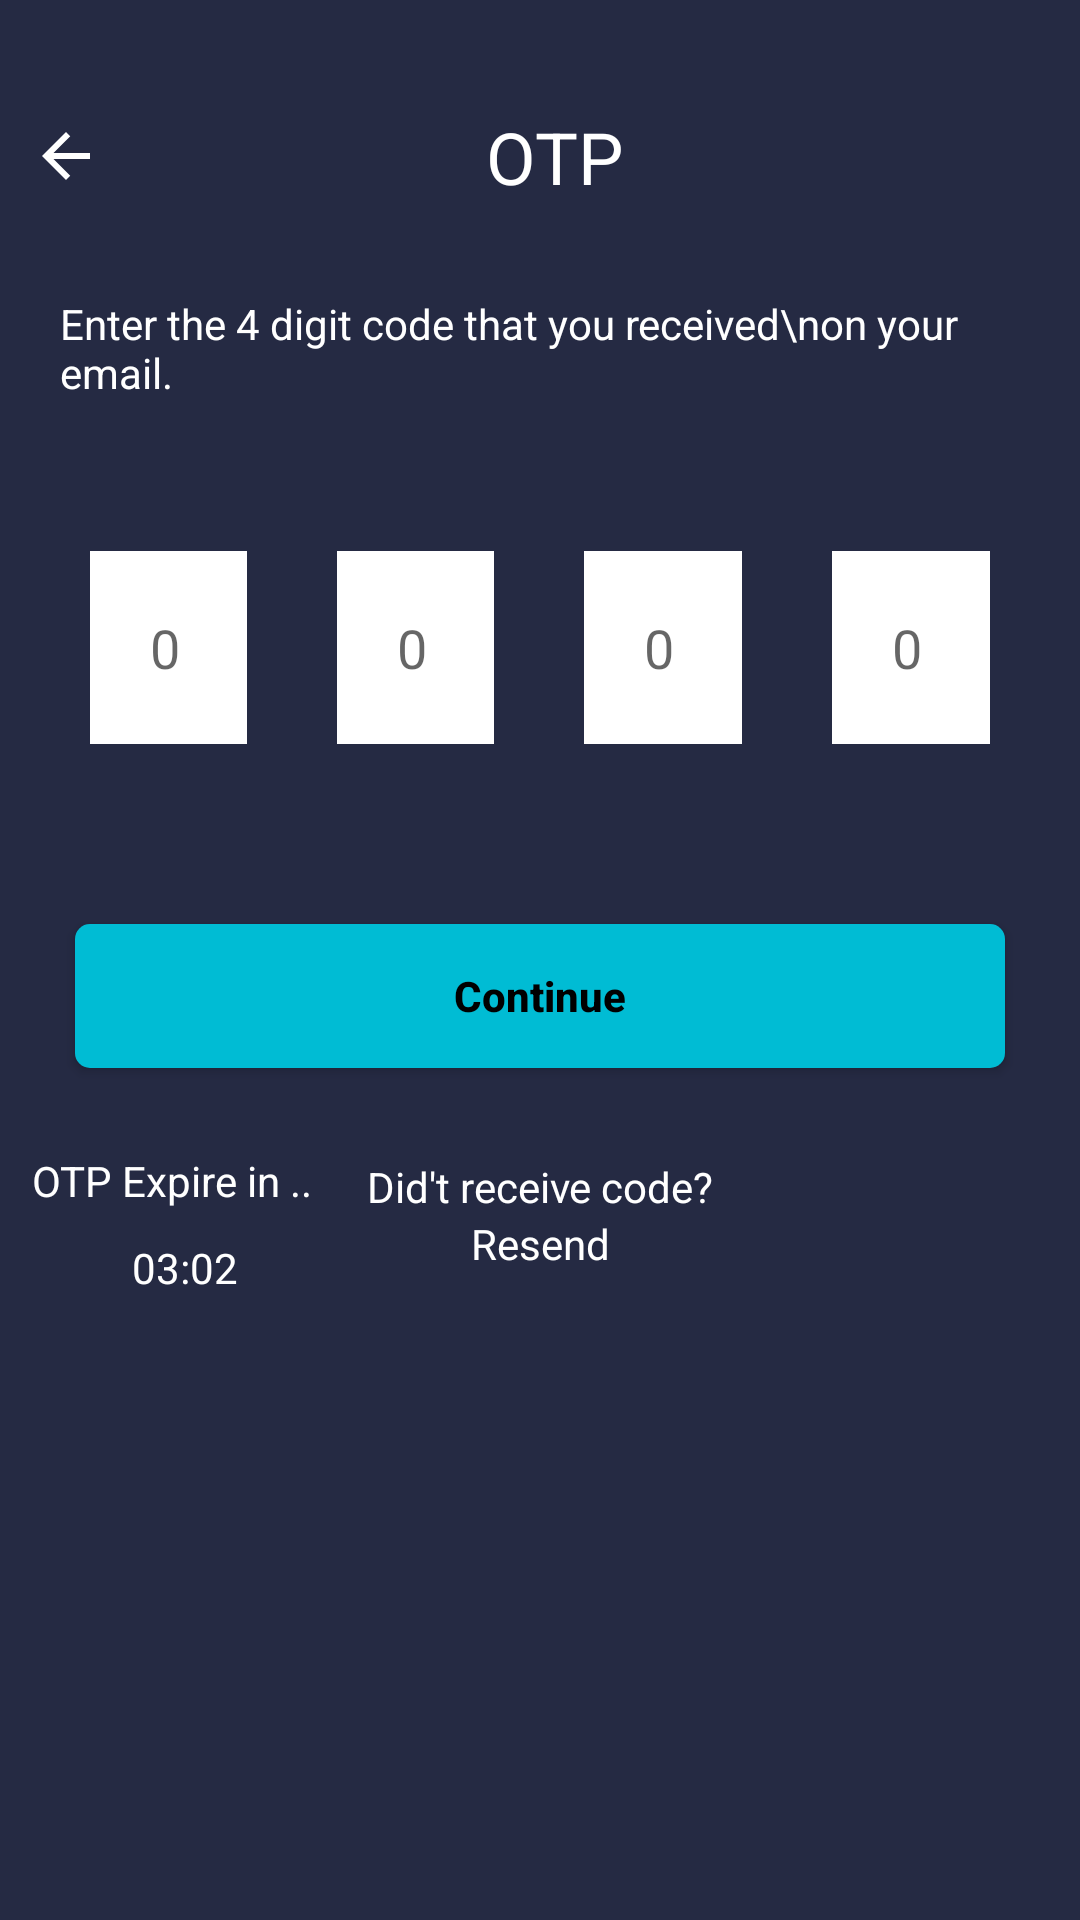

Screen size 1080w x 1920h. Icon name, then its center in pixels as (x=x, y=y):
arrow back: (x=66, y=156)
